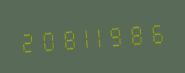eight: (55, 22, 73, 54), (131, 17, 149, 48)
nine: (112, 18, 130, 50)
one: (93, 19, 111, 51), (74, 21, 92, 52)
six: (150, 15, 168, 47)
two: (17, 25, 35, 56)
zero: (36, 23, 54, 55)
